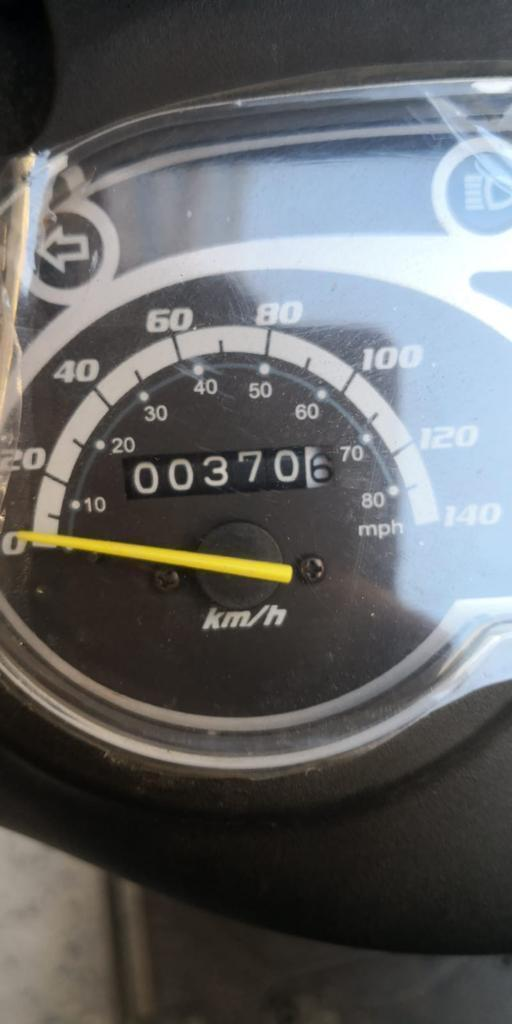0: (129, 458, 160, 496), (165, 456, 195, 493), (271, 447, 300, 484), (123, 440, 136, 453)
2: (117, 440, 124, 453)
3: (200, 453, 230, 487)
6: (307, 450, 335, 485)
7: (235, 448, 263, 484)
odometer: (117, 440, 341, 506)
